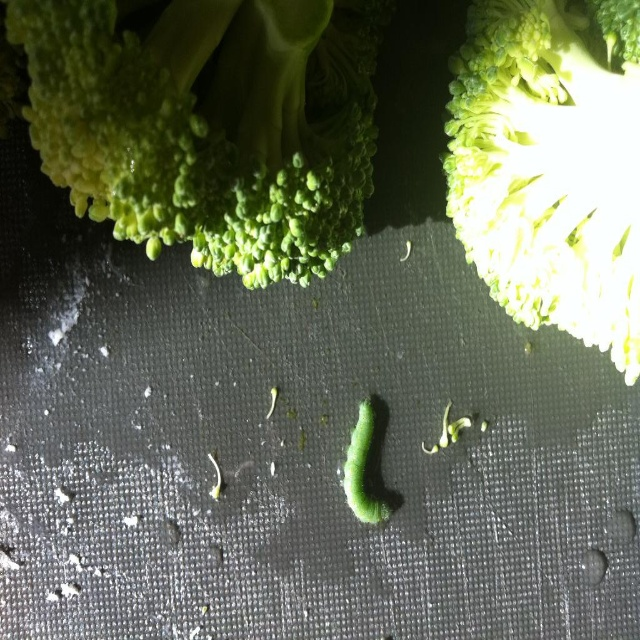Caterpillar: (339, 397, 391, 524)
